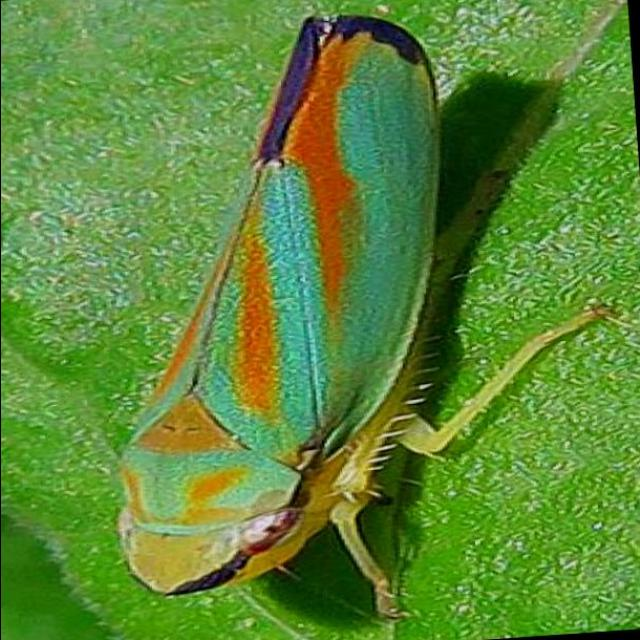green leaf hopper: (118, 15, 586, 620)
